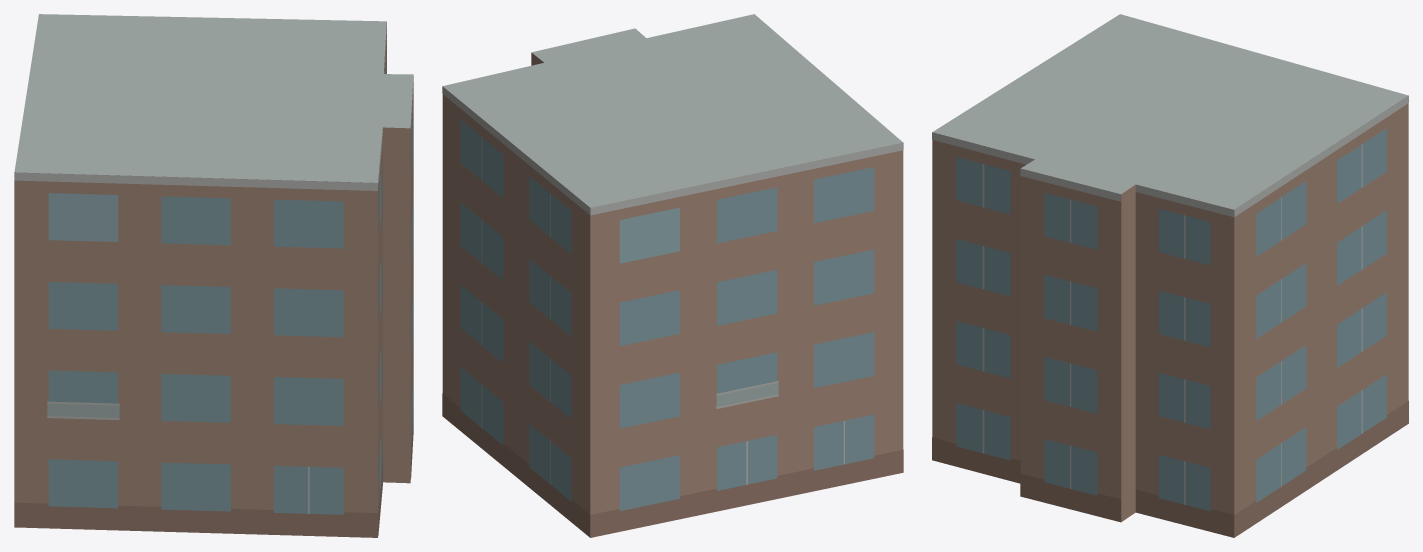
File: survey-upis-32477342.glb
3 views of the same model, side by side, from view 1: azimuth 30°, elevation 25°; view 2: azimuth 150°, elevation 25°; view 3: azimuth 270°, elevation 25° (orthographic). The views are drawn at different scales.
Visible parts, largest first — view 1: survey-upis-32477342.tmp; view 2: survey-upis-32477342.tmp; view 3: survey-upis-32477342.tmp.
Part boxes in pixels (box(x1,y1,x2,y2)): survey-upis-32477342.tmp: box(14, 14, 413, 537); survey-upis-32477342.tmp: box(442, 14, 903, 537); survey-upis-32477342.tmp: box(932, 14, 1408, 537).
Bounding box in the file's own units: 13.64 × 10.65 × 14.03.
